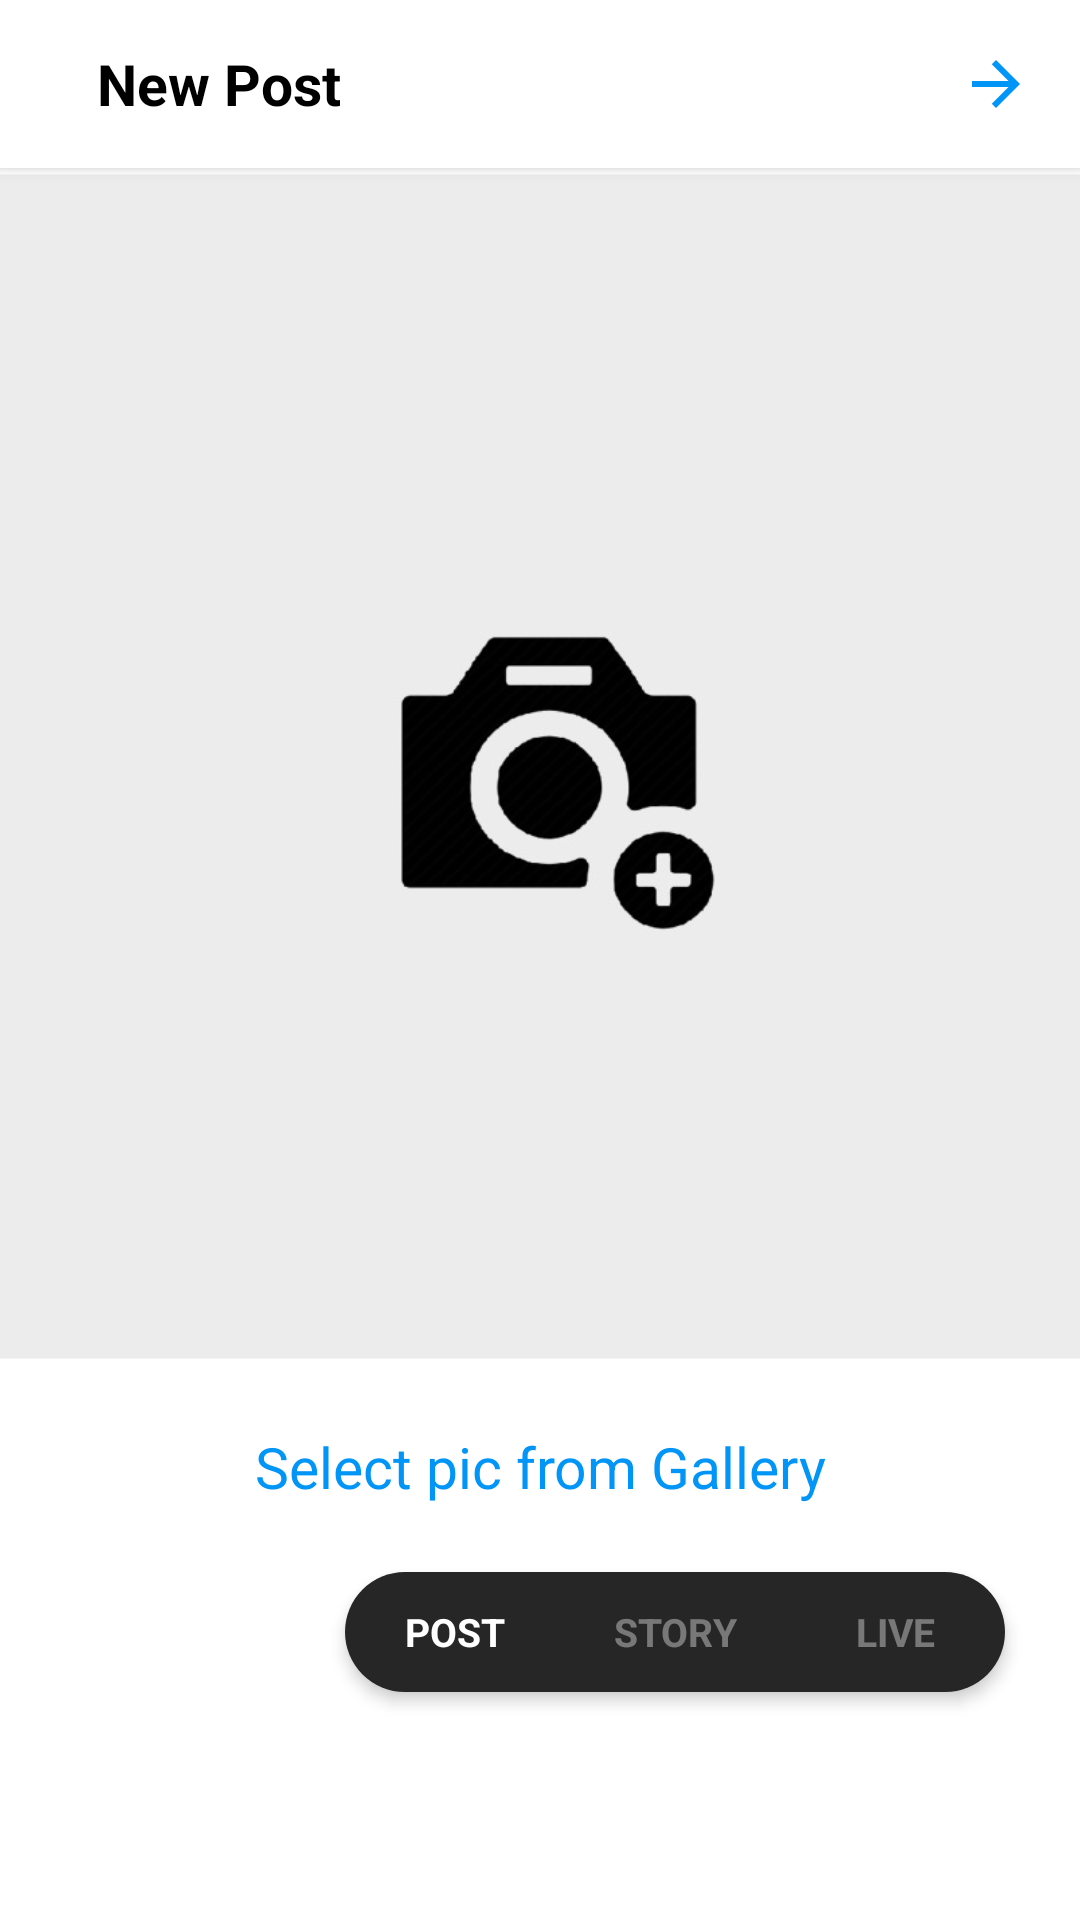

Named icons in this screenshot (1080×1920) and their centers, [x,y]:
arrow forward: [996,84]
